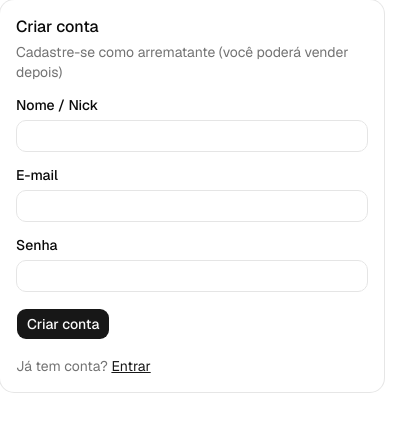
Test: RegisterForm — erro de campo no DOM real › revela o erro do campo email sem marcar os demais campos
Type "ana@@ex" into the field labelled "E-mail" at (192, 206), box [16,190,368,222]
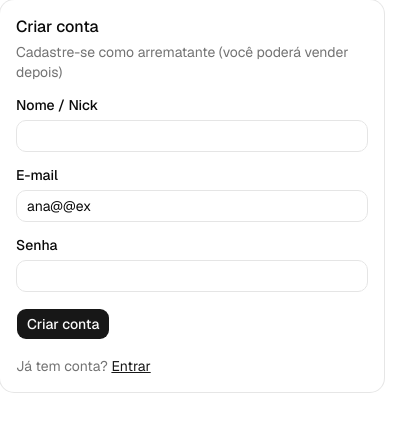
Leave the field labelled "E-mail", box [16,190,368,222]
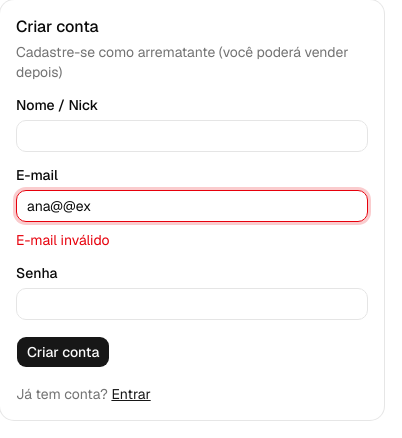
expect the message "E-mail inválido" is shown: met, box [16,231,110,249]
